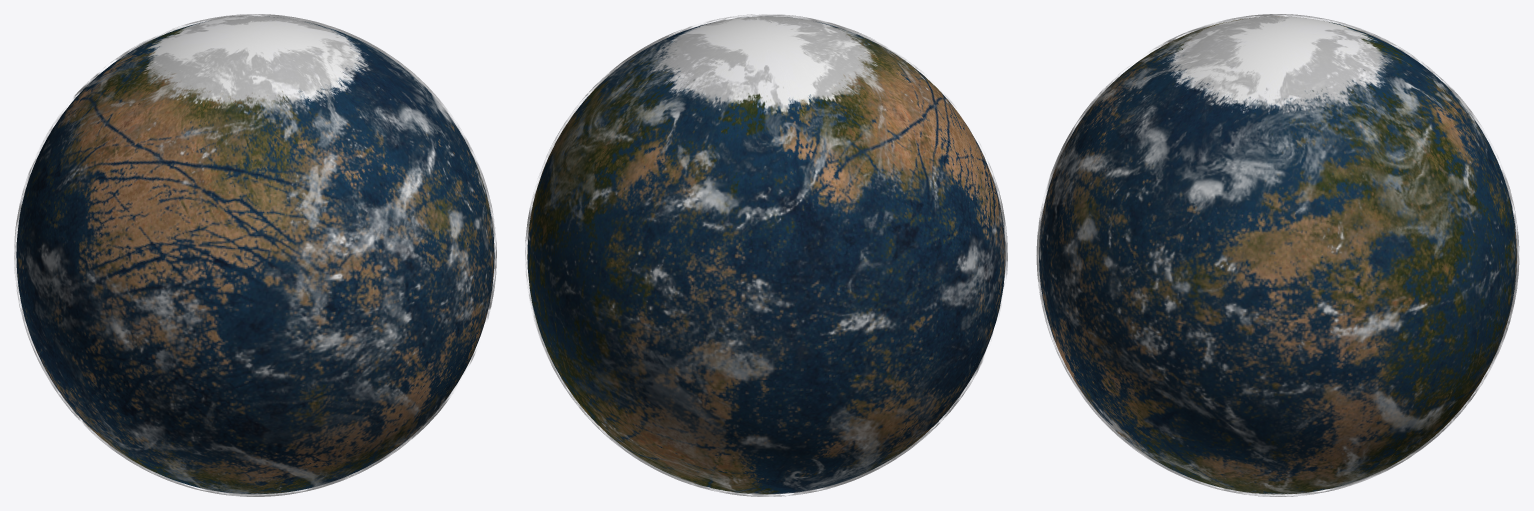
The model's file is europa_terraformed.glb.
3 renders of one model, left to right at view 1: azimuth 30°, elevation 25°; view 2: azimuth 150°, elevation 25°; view 3: azimuth 270°, elevation 25°, orthographic.
Parts seen in each view (by area): view 1: Esfera, Esfera_1; view 2: Esfera, Esfera_1; view 3: Esfera, Esfera_1.
Part boxes in pixels (x1=…): Esfera: x1=16, y1=16, x2=494, y2=494; Esfera_1: x1=14, y1=14, x2=496, y2=496; Esfera: x1=527, y1=16, x2=1005, y2=494; Esfera_1: x1=525, y1=14, x2=1007, y2=496; Esfera: x1=1039, y1=16, x2=1516, y2=494; Esfera_1: x1=1036, y1=14, x2=1519, y2=496.
Size of the model in its own units: 2020 by 2020 by 2020.
Materials: 2 (2 with a texture image).
